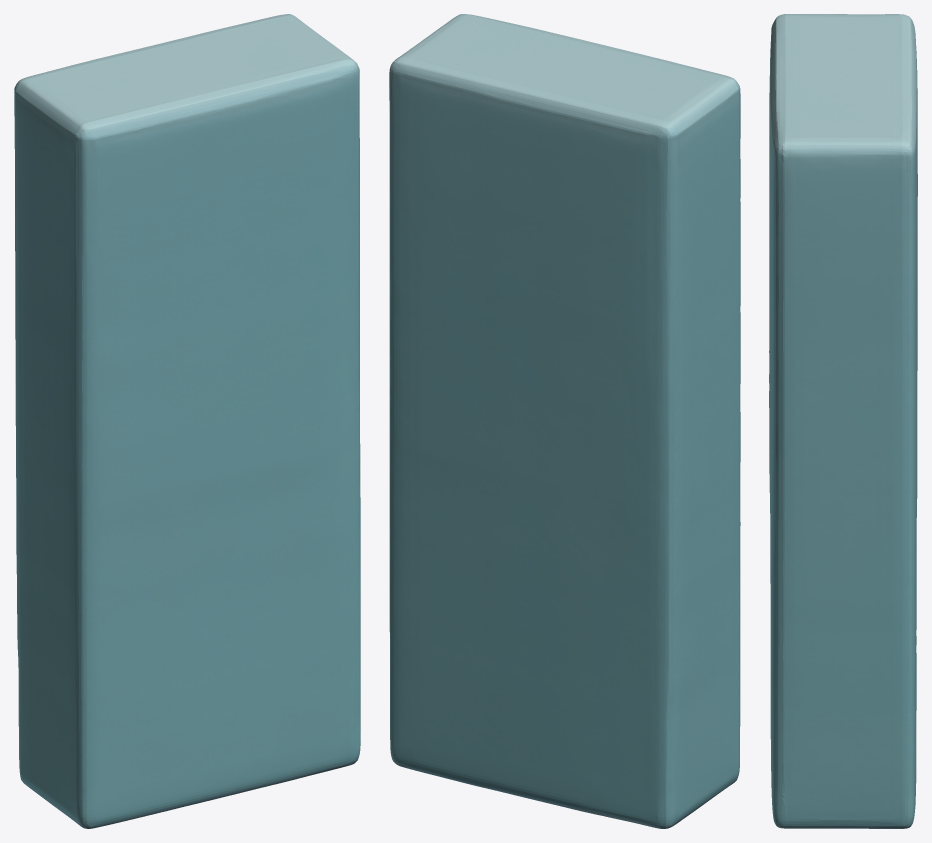
Rendered from obj2_scaled.glb.
3 renders of one model, left to right at view 1: azimuth 30°, elevation 25°; view 2: azimuth 150°, elevation 25°; view 3: azimuth 270°, elevation 25°, orthographic. The views are drawn at different scales.
Parts seen in each view (by area): view 1: world; view 2: world; view 3: world.
Boxes of the visible parts, x1=… form: world: x1=14, y1=14, x2=360, y2=828; world: x1=389, y1=14, x2=740, y2=828; world: x1=769, y1=14, x2=917, y2=828.
Bounding box in the file's own units: 0.0287 × 0.0671 × 0.0131.
